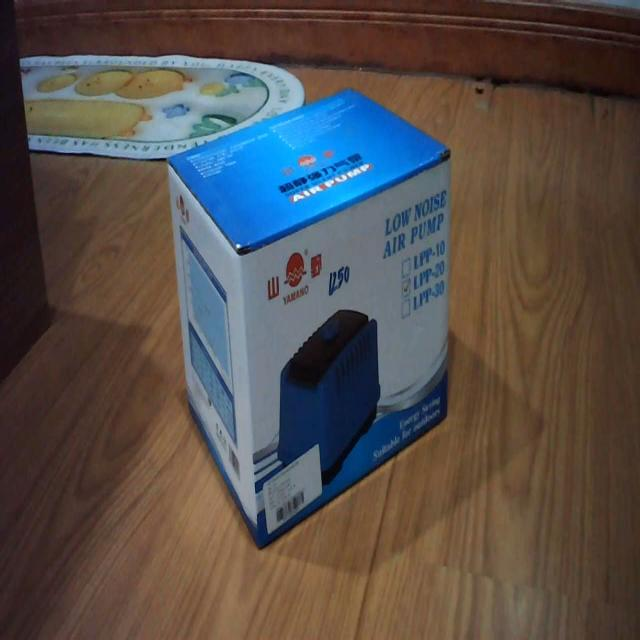YAMANO_LPP_20: (163, 76, 457, 564)
